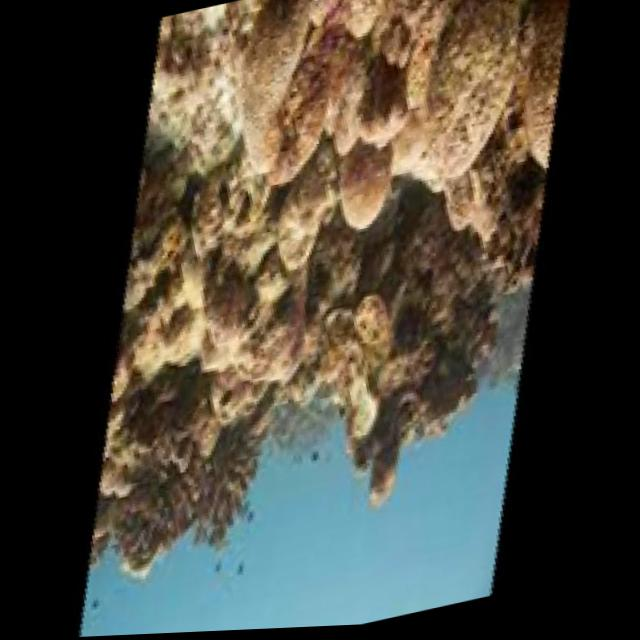Dead Coral: (203, 0, 573, 245), (274, 192, 548, 517), (77, 373, 356, 637), (135, 199, 349, 440)
